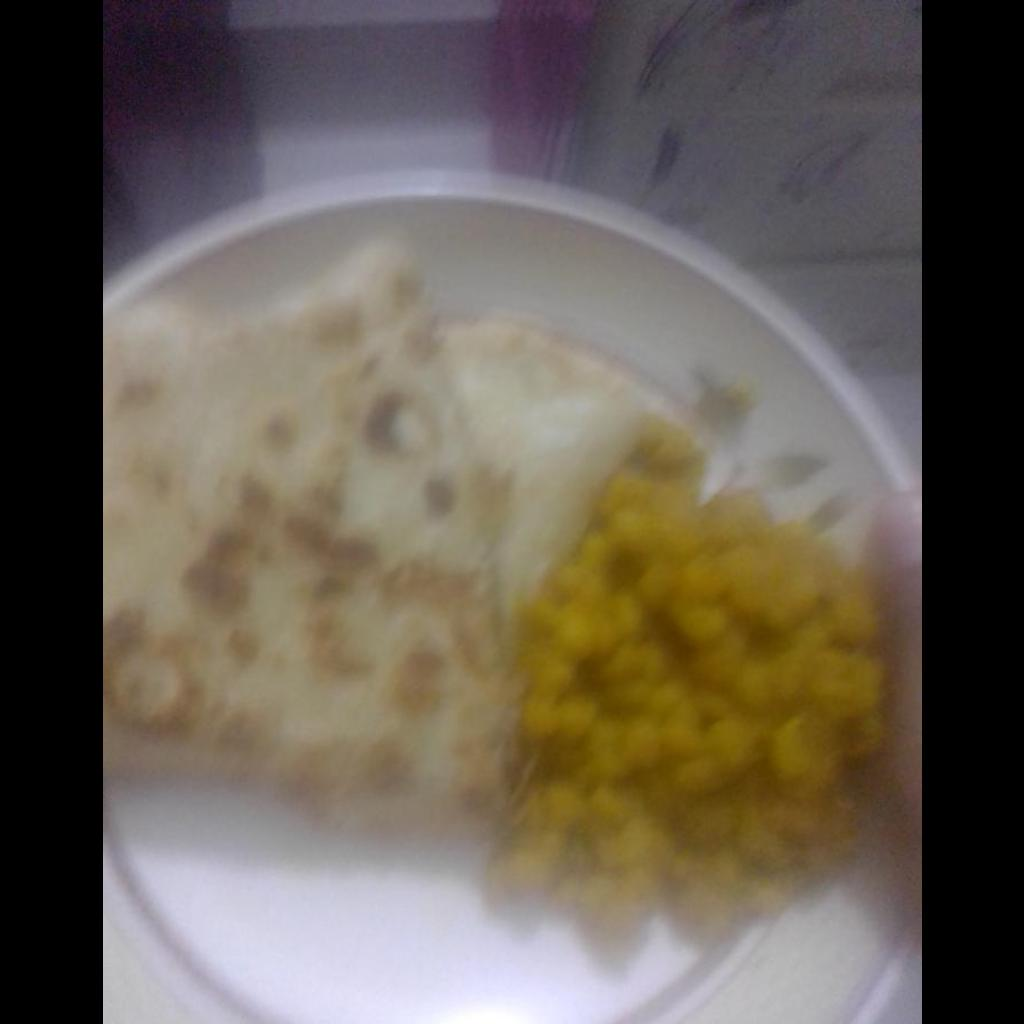daal: (528, 449, 884, 882)
ruti: (102, 245, 657, 814)
